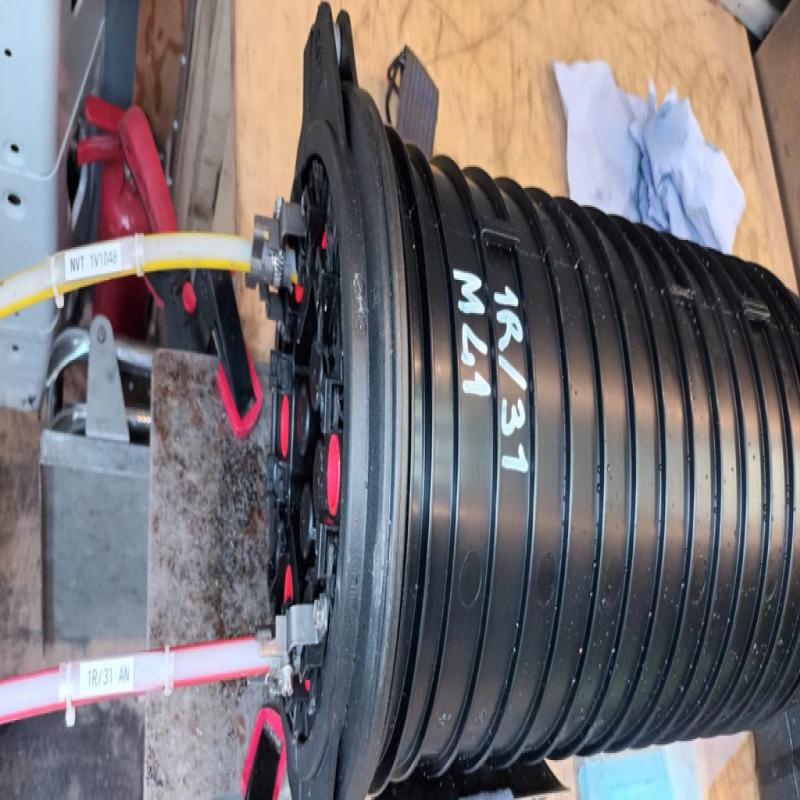NT-Muffen: (241, 0, 800, 800)
